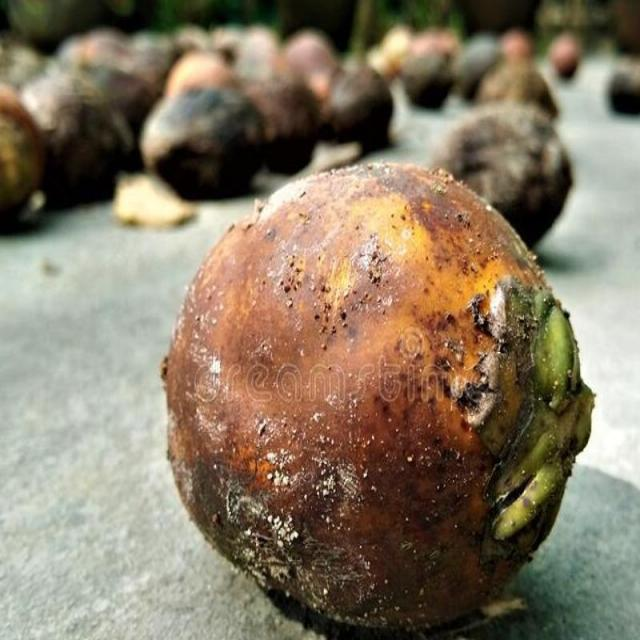damaged: (161, 163, 594, 631)
